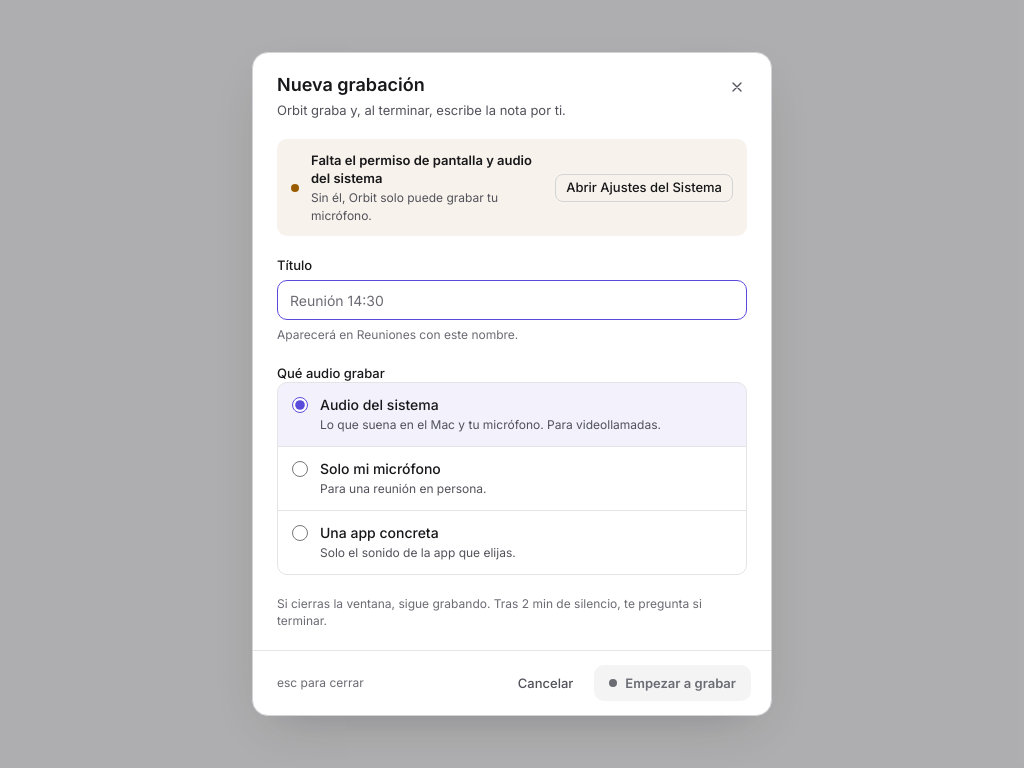
Test case: the missing screen permission stops every source but the microphone
Expected: the text "Falta el permiso de pantalla y audio del sistema" is shown, [311,151,543,187]
Expected: the button "Empezar a grabar" is disabled, [594,665,751,701]
Click the radio button labelled "Solo mi micrófono Para una reunión en persona.": (300,469) [292,461,308,477]
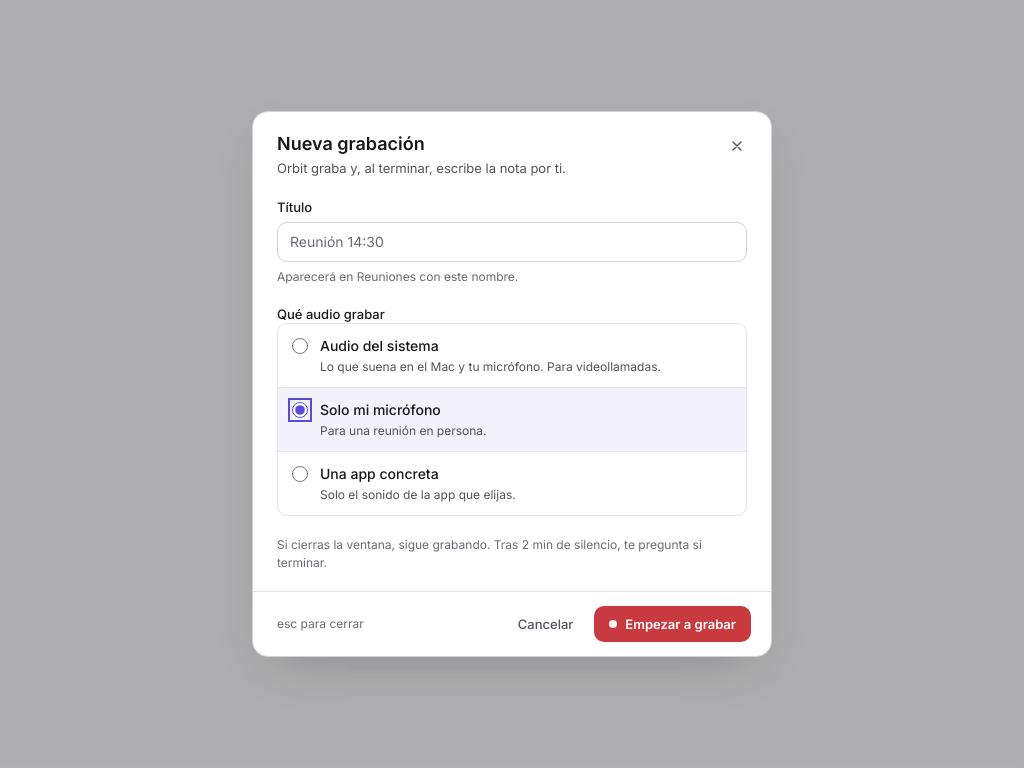
Result: the text "Falta el permiso de pantalla y audio del sistema" is gone
Result: the button "Empezar a grabar" is enabled at [594,606,751,642]
